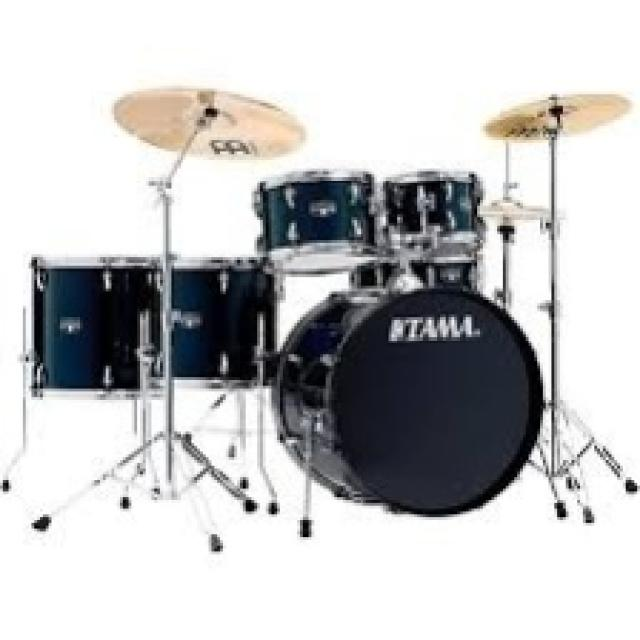drums: (29, 76, 636, 527)
